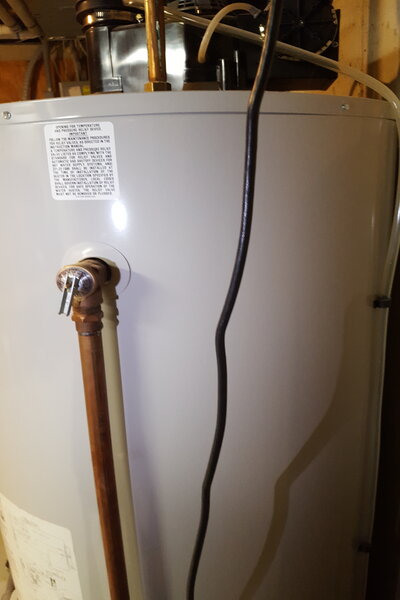valve: (58, 260, 112, 343)
